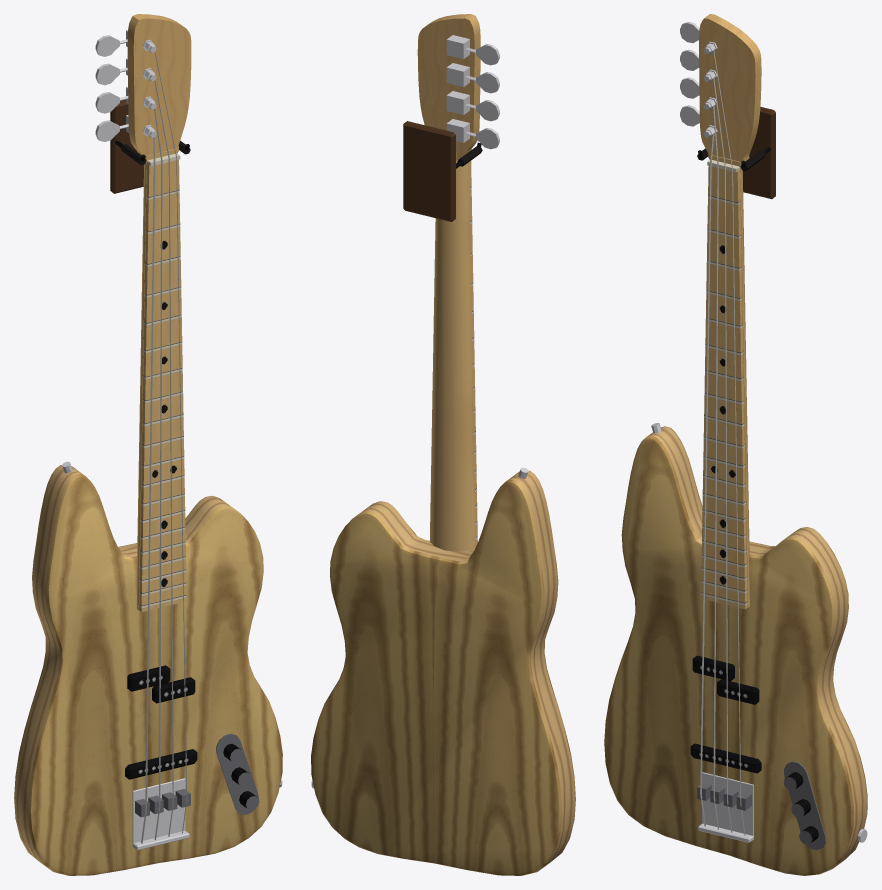
File: bass-natural.glb
3 renders of one model, left to right at view 1: azimuth 30°, elevation 25°; view 2: azimuth 150°, elevation 25°; view 3: azimuth 330°, elevation 25°, orthographic. The views are drawn at different scales.
Visible parts, largest first — view 1: bass_L20; view 2: bass_L20; view 3: bass_L20.
Part boxes in pixels (x1,y1,x2,y2): bass_L20: (14, 14, 282, 875); bass_L20: (311, 14, 575, 875); bass_L20: (604, 14, 867, 875).
Size of the model in its own units: 0.3612 by 1.15 by 0.0796.
1 material, 1 textured.
